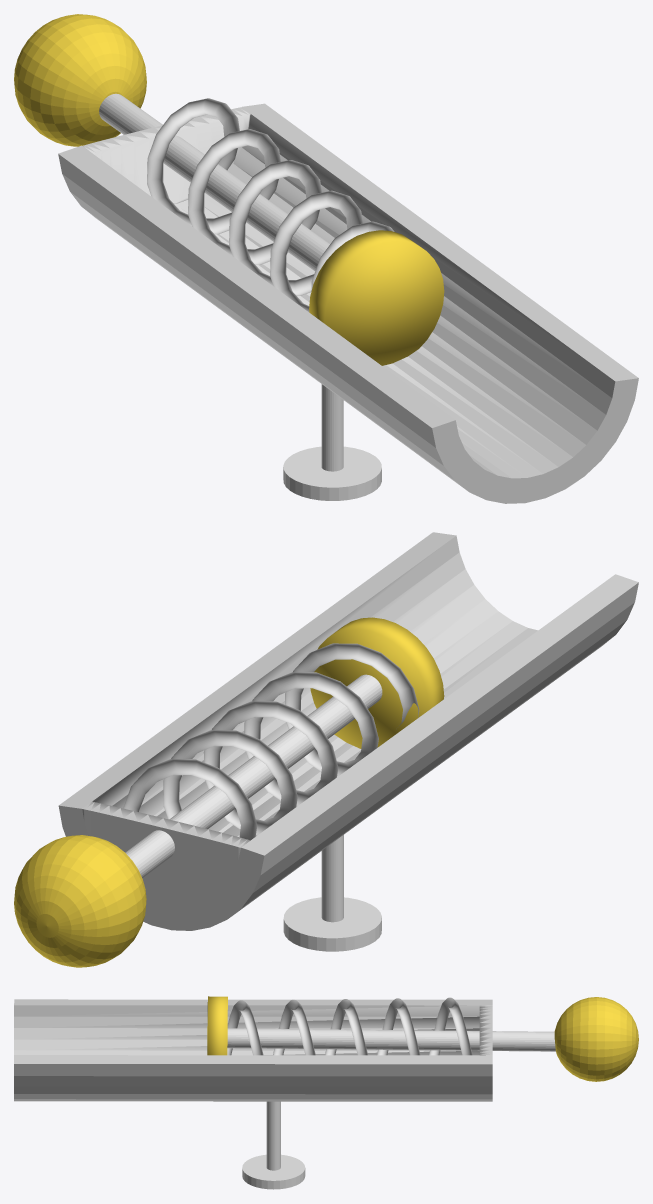
Rendered from startenergie.glb.
3 views of the same model, one above another, from view 1: azimuth 30°, elevation 25°; view 2: azimuth 150°, elevation 25°; view 3: azimuth 270°, elevation 25° (orthographic). The views are drawn at different scales.
Visible parts, largest first — view 1: tray, spring open, disc, handleSphere, handleStick, baseDisc, baseStick; view 2: tray, spring open, handleSphere, disc, handleStick, baseDisc, baseStick; view 3: tray, handleSphere, handleStick, spring open, baseDisc, disc, baseStick.
Part boxes in pixels (<box>): tray: <box>58,103,638,503</box>; spring open: <box>147,98,394,311</box>; disc: <box>309,230,444,365</box>; handleSphere: <box>14,14,146,146</box>; handleStick: <box>99,93,329,271</box>; baseDisc: <box>283,446,381,500</box>; baseStick: <box>321,384,343,471</box>; tray: <box>58,532,638,930</box>; spring open: <box>123,643,419,840</box>; handleSphere: <box>14,835,146,967</box>; disc: <box>310,617,444,748</box>; handleStick: <box>125,674,382,877</box>; baseDisc: <box>283,897,381,951</box>; baseStick: <box>321,835,343,922</box>; tray: <box>14,999,492,1101</box>; handleSphere: <box>554,997,638,1081</box>; handleStick: <box>227,1028,555,1051</box>; spring open: <box>227,997,472,1055</box>; baseDisc: <box>242,1154,305,1189</box>; disc: <box>207,996,227,1055</box>; baseStick: <box>266,1101,280,1170</box>.
Bounding box in the file's own units: 0.2231 × 0.2826 × 0.9116.
